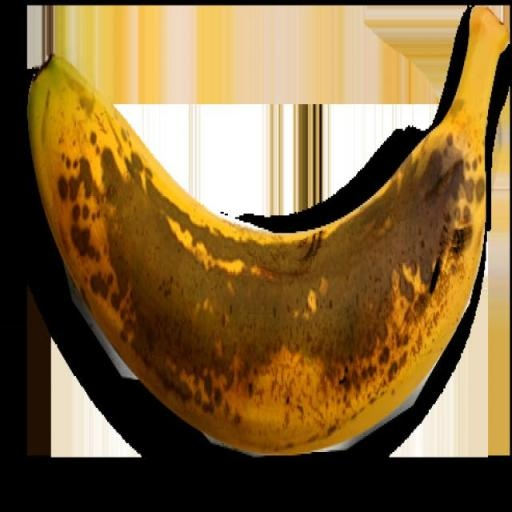fruit: (28, 8, 507, 452)
